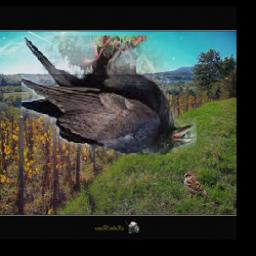Crow: (20, 36, 196, 156)
Sparrow: (183, 172, 209, 198)
